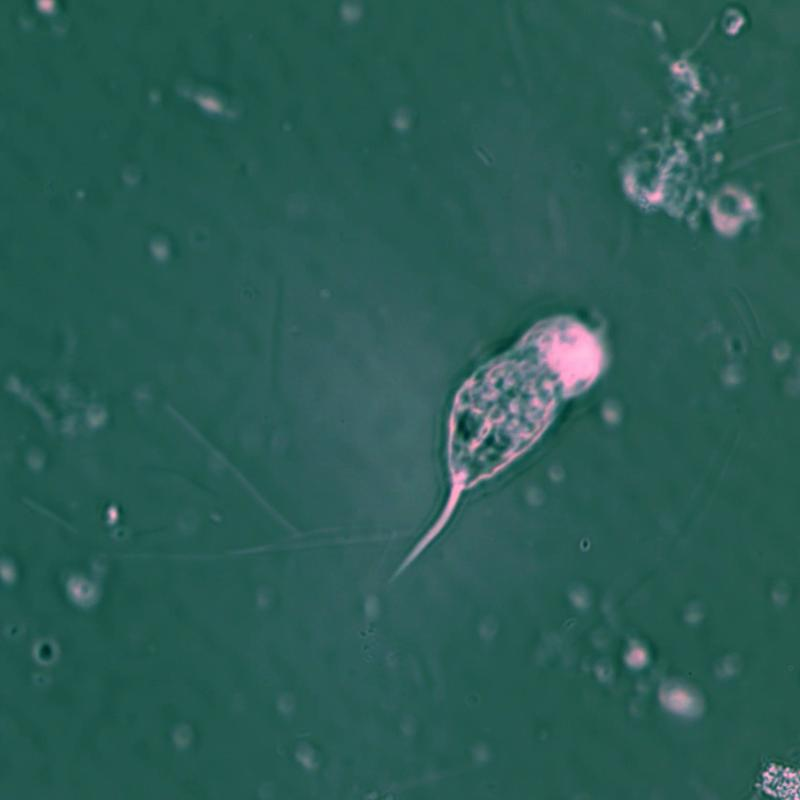depth:0: (363, 293, 631, 593)
